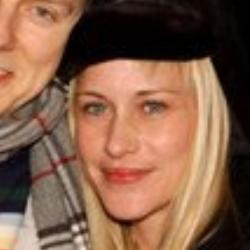face: (66, 39, 229, 235), (1, 1, 83, 113)
